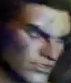kevin: (5, 2, 70, 81)
